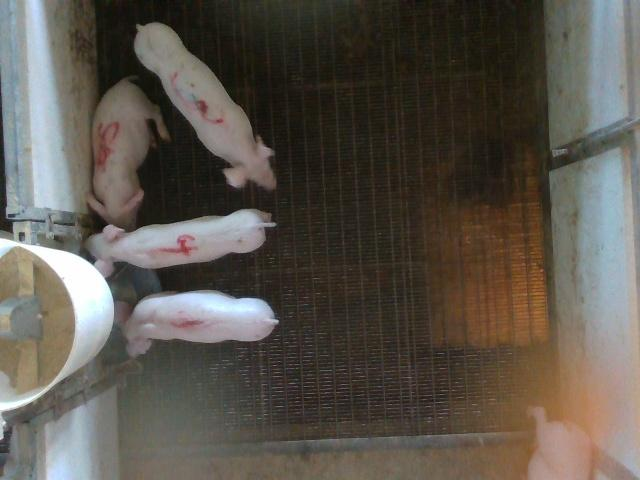pig-1: (114, 290, 279, 357)
pig-3: (134, 25, 276, 190)
pig-4: (86, 209, 276, 277)
pig-5: (88, 78, 170, 231)
